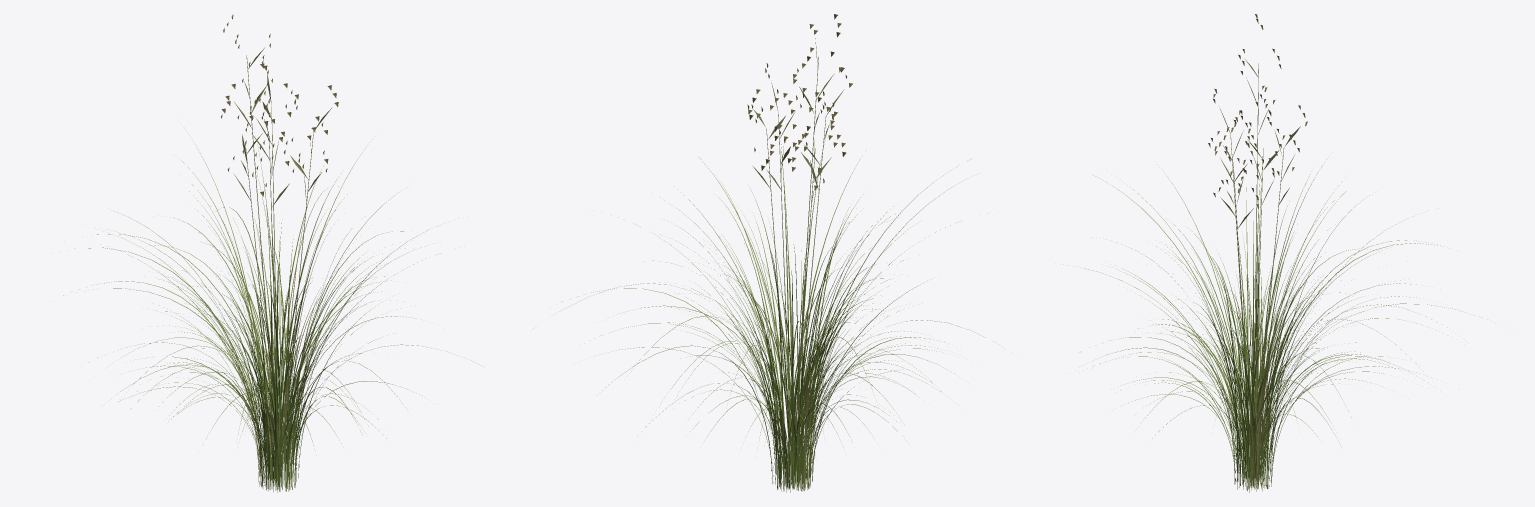
3 renders of one model, left to right at view 1: azimuth 30°, elevation 25°; view 2: azimuth 150°, elevation 25°; view 3: azimuth 270°, elevation 25°, orthographic. The views are drawn at different scales.
Parts seen in each view (by area): view 1: Blades • Leaf green, Blades • Leaf forest, Blades • Leaf young, Blades • Leaf shaded, Flowering culms • Leaf olive, Blades • Dry sheath, Blades • Leaf olive, Spikelets • Dry sheath, Panicle branches • Leaf olive; view 2: Blades • Leaf green, Blades • Leaf forest, Blades • Leaf young, Blades • Leaf shaded, Flowering culms • Leaf olive, Blades • Dry sheath, Spikelets • Dry sheath, Blades • Leaf olive, Panicle branches • Leaf olive; view 3: Blades • Leaf green, Blades • Leaf forest, Blades • Leaf young, Blades • Leaf shaded, Flowering culms • Leaf olive, Blades • Dry sheath, Blades • Leaf olive, Spikelets • Dry sheath, Panicle branches • Leaf olive.
Boxes of the visible parts, bbox=[...] form: Blades • Leaf green: bbox=[97, 160, 414, 492]; Blades • Leaf forest: bbox=[88, 166, 417, 491]; Blades • Leaf young: bbox=[63, 139, 436, 491]; Blades • Leaf shaded: bbox=[131, 147, 419, 490]; Flowering culms • Leaf olive: bbox=[245, 55, 313, 485]; Blades • Dry sheath: bbox=[111, 193, 361, 489]; Blades • Leaf olive: bbox=[121, 186, 483, 486]; Spikelets • Dry sheath: bbox=[221, 14, 338, 196]; Panicle branches • Leaf olive: bbox=[233, 48, 332, 206]; Blades • Leaf green: bbox=[591, 152, 976, 492]; Blades • Leaf forest: bbox=[606, 195, 985, 492]; Blades • Leaf young: bbox=[637, 157, 957, 490]; Blades • Leaf shaded: bbox=[644, 134, 922, 490]; Flowering culms • Leaf olive: bbox=[766, 56, 826, 485]; Blades • Dry sheath: bbox=[687, 250, 954, 490]; Spikelets • Dry sheath: bbox=[747, 14, 852, 190]; Blades • Leaf olive: bbox=[599, 236, 941, 488]; Panicle branches • Leaf olive: bbox=[753, 38, 844, 205]; Blades • Leaf green: bbox=[1063, 162, 1491, 491]; Blades • Leaf forest: bbox=[1122, 174, 1440, 492]; Blades • Leaf young: bbox=[1093, 175, 1416, 489]; Blades • Leaf shaded: bbox=[1107, 159, 1416, 490]; Flowering culms • Leaf olive: bbox=[1230, 63, 1284, 485]; Blades • Dry sheath: bbox=[1160, 252, 1325, 491]; Blades • Leaf olive: bbox=[1145, 276, 1423, 488]; Spikelets • Dry sheath: bbox=[1208, 14, 1307, 208]; Panicle branches • Leaf olive: bbox=[1220, 58, 1300, 228].
Bounding box in the file's own units: 0.3862 × 0.441 × 0.4151.
